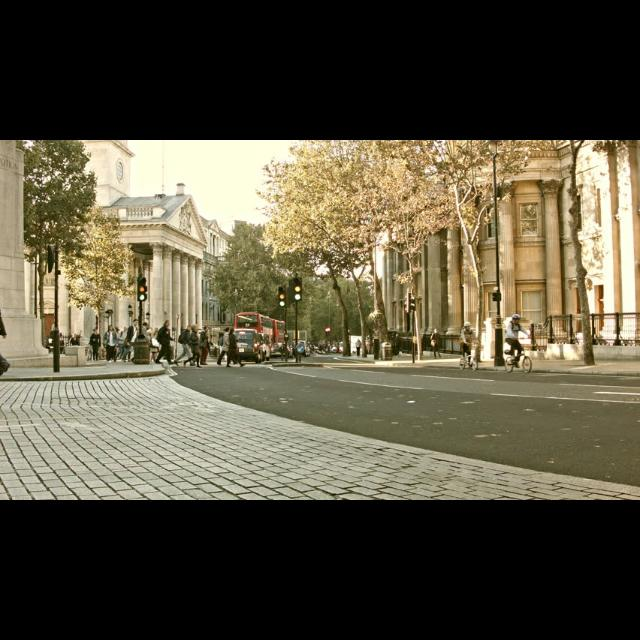head: (463, 322, 472, 332), (513, 316, 521, 326), (191, 326, 199, 334), (134, 320, 140, 328), (124, 327, 130, 333), (204, 327, 210, 333), (225, 328, 231, 334), (230, 328, 236, 334), (143, 323, 149, 329), (166, 321, 170, 329), (94, 330, 100, 334), (110, 326, 114, 332), (188, 326, 192, 332), (154, 328, 160, 332), (73, 334, 77, 338), (436, 330, 440, 334), (358, 340, 360, 342)
person: (504, 313, 534, 369), (154, 318, 176, 366), (119, 319, 141, 365), (172, 324, 195, 368), (458, 320, 479, 368), (183, 324, 203, 370), (216, 327, 238, 368), (224, 328, 246, 368), (102, 326, 120, 364), (197, 326, 211, 366), (138, 322, 152, 362), (115, 326, 129, 364), (88, 328, 102, 362), (150, 326, 162, 364), (429, 328, 443, 360), (68, 333, 82, 359), (354, 339, 362, 357)
